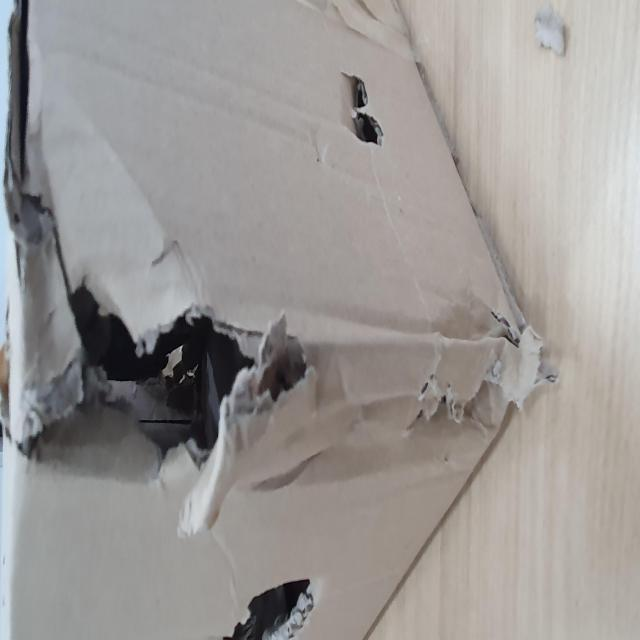damaged: (64, 37, 210, 544), (0, 406, 41, 556), (268, 602, 332, 640)
